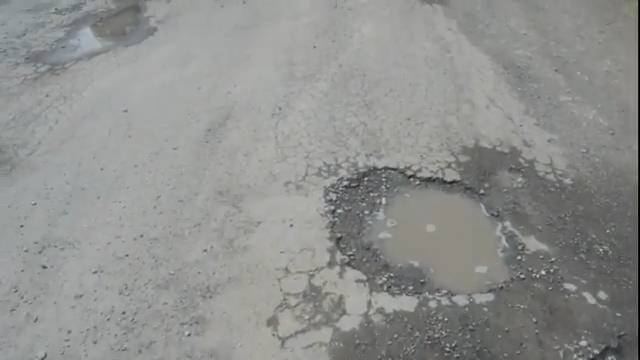pothole: (226, 226, 367, 360), (379, 187, 515, 309)
